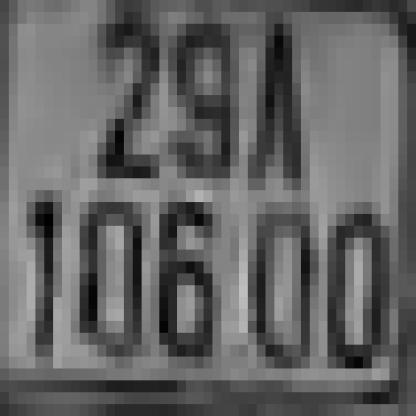0: (239, 202, 310, 357)
1: (18, 202, 71, 345)
2: (97, 12, 168, 178)
6: (160, 202, 212, 345)
9: (168, 24, 230, 178)
A: (239, 24, 301, 190)
